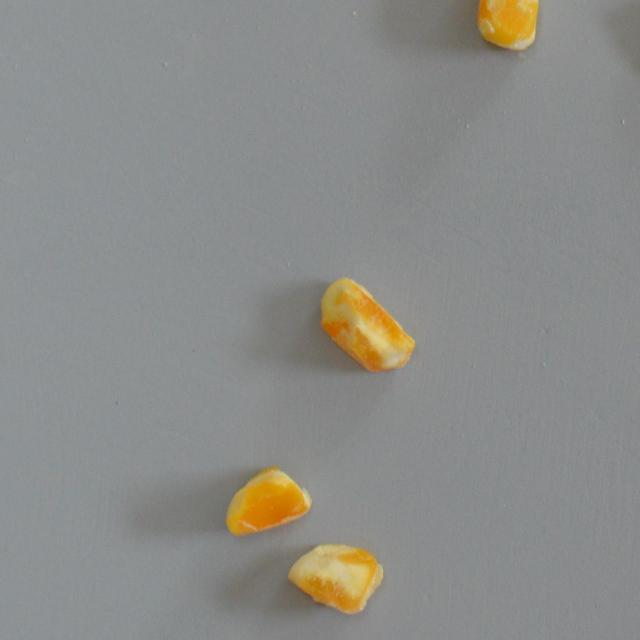dañado: (315, 274, 420, 374)
pelicula: (225, 460, 314, 541), (286, 541, 384, 614), (476, 0, 544, 52)
